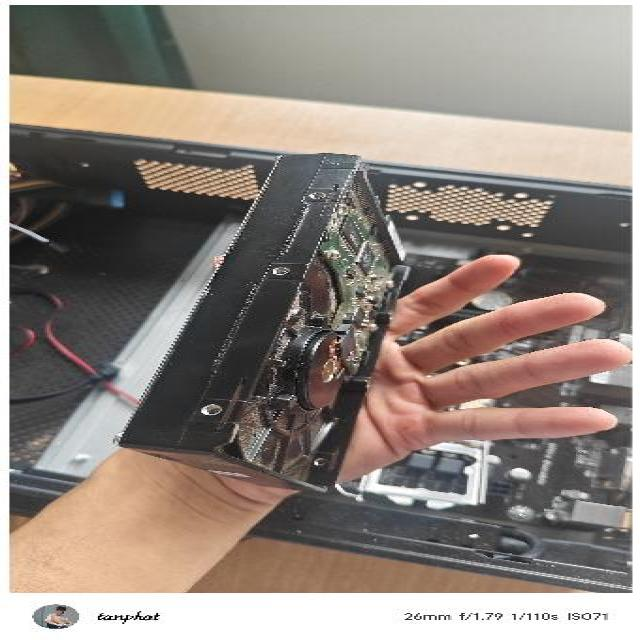DISK: (102, 150, 408, 496)
